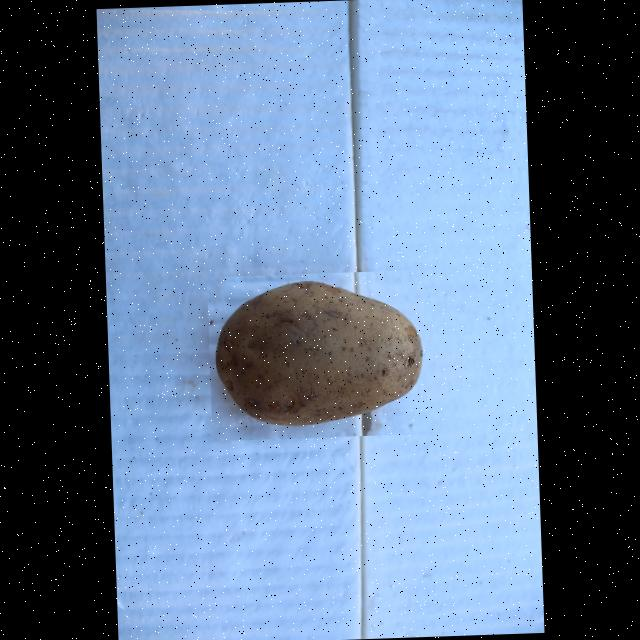Diseased-fungal potato: (206, 268, 428, 440)
